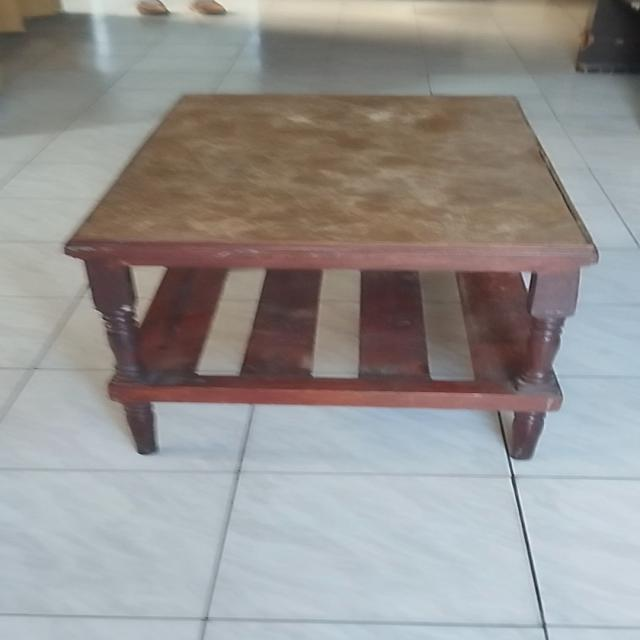table: (54, 89, 607, 467)
